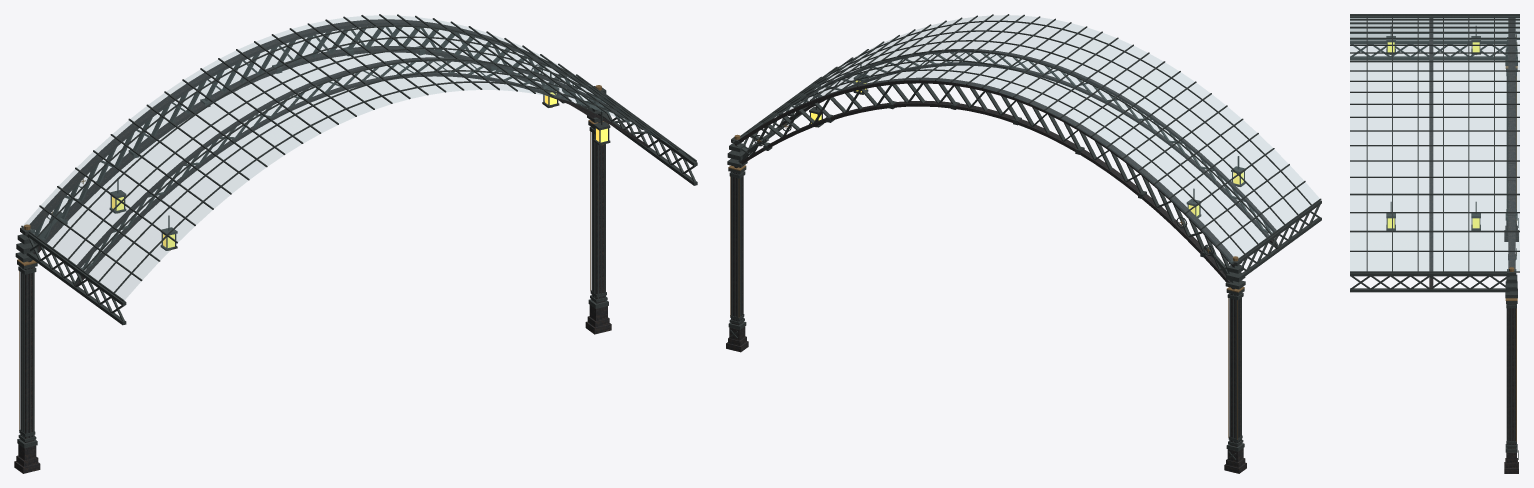
The model's file is train_shed_bay.glb.
The picture shows the model from 3 angles, left to right: view 1: azimuth 30°, elevation 25°; view 2: azimuth 150°, elevation 25°; view 3: azimuth 270°, elevation 25°; orthographic projection. The views are drawn at different scales.
Parts seen in each view (by area): view 1: train_shed_bay_y_up; view 2: train_shed_bay_y_up; view 3: train_shed_bay_y_up.
Boxes of the visible parts, x1,y1,x2,y2 form: train_shed_bay_y_up: (14, 14, 697, 473); train_shed_bay_y_up: (726, 14, 1321, 473); train_shed_bay_y_up: (1350, 14, 1519, 473).
Size of the model in its own units: 19.98 by 12.07 by 6.
Materials: 6 (6 with a texture image).
